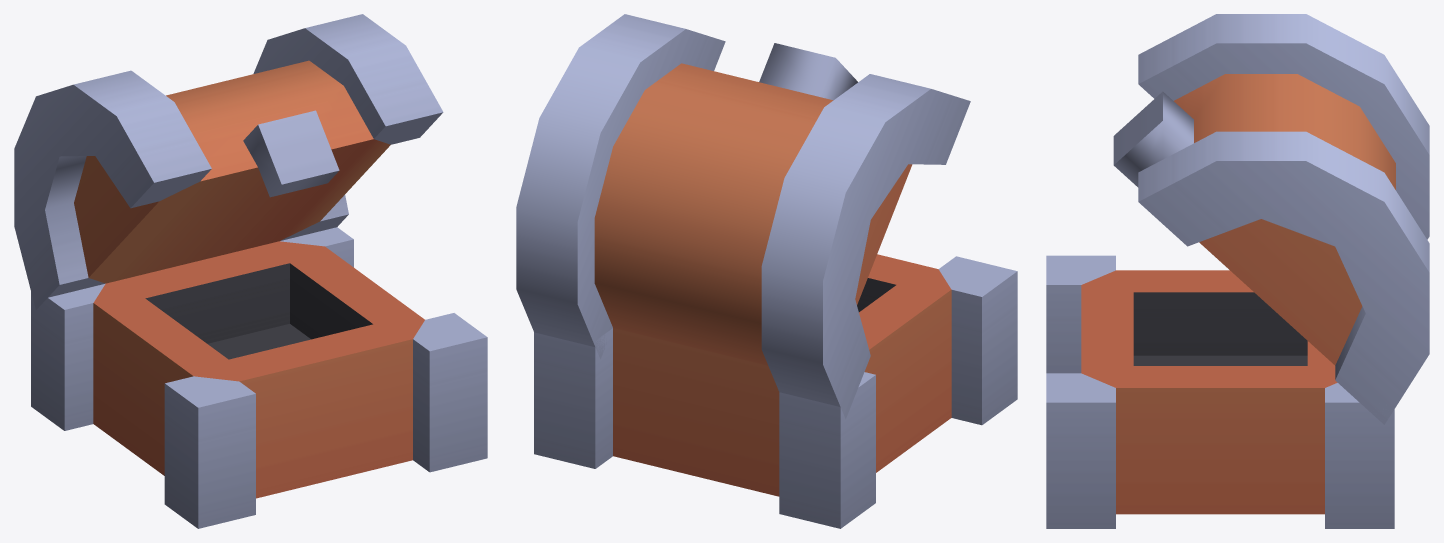
Rendered from treasure_chest.glb.
3 renders of one model, left to right at view 1: azimuth 30°, elevation 25°; view 2: azimuth 150°, elevation 25°; view 3: azimuth 270°, elevation 25°, orthographic. The views are drawn at different scales.
Parts seen in each view (by area): view 1: chest.001, lid.001; view 2: lid.001, chest.001; view 3: lid.001, chest.001.
Boxes of the visible parts, bbox=[...] form: chest.001: bbox=[31, 227, 487, 528]; lid.001: bbox=[14, 14, 443, 309]; lid.001: bbox=[516, 14, 970, 419]; chest.001: bbox=[534, 254, 1017, 528]; lid.001: bbox=[1113, 14, 1429, 424]; chest.001: bbox=[1046, 255, 1394, 528].
Bounding box in the file's own units: 0.5 × 0.5829 × 0.5501.
1 material, 1 textured.
